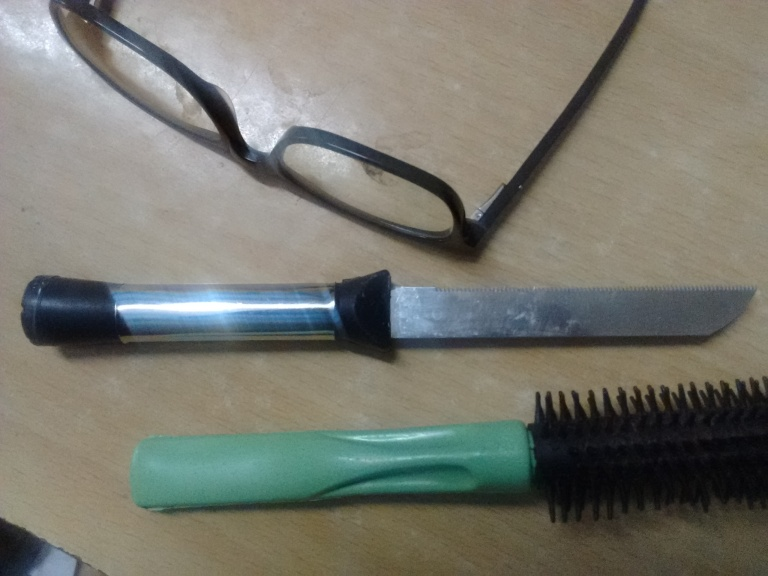knife: (21, 270, 756, 362)
